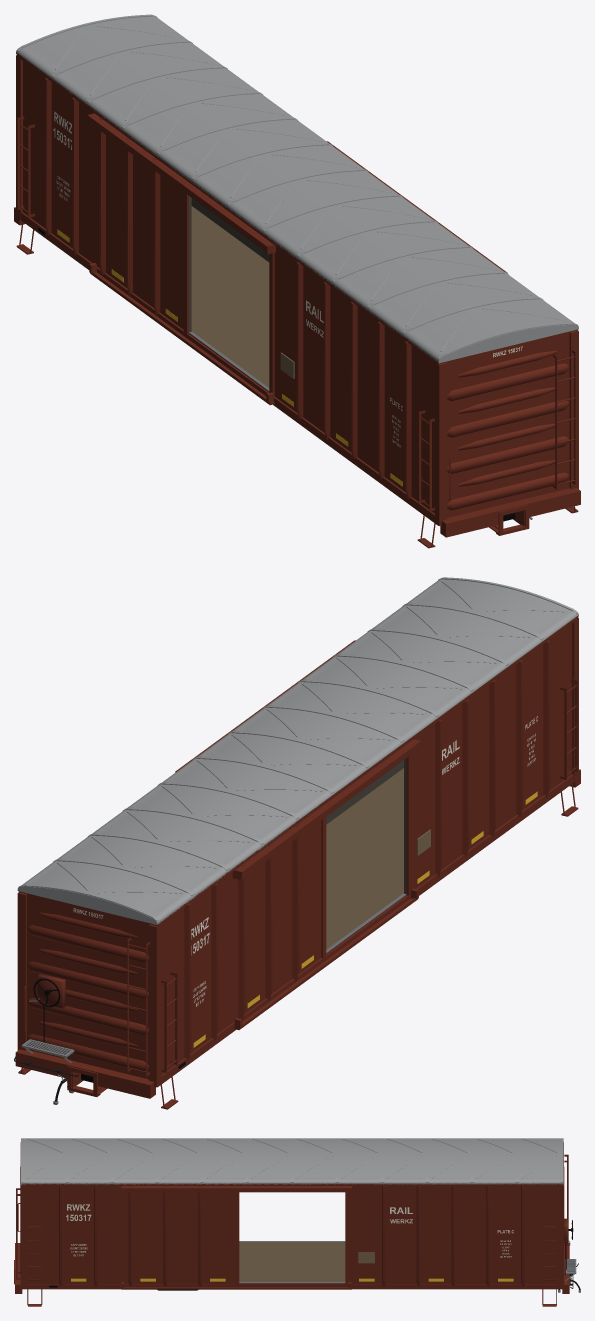
The model's file is body_rwkz.glb.
The picture shows the model from 3 angles, top to bottom: view 1: azimuth 30°, elevation 25°; view 2: azimuth 150°, elevation 25°; view 3: azimuth 270°, elevation 25°; orthographic projection. The views are drawn at different scales.
Visible parts, largest first — view 1: Body, Roof, Floor, Frame, Grab, Interior, Lettering; view 2: Body, Roof, Floor, Frame, Grab, Interior, Lettering; view 3: Body, Roof, Floor, Grab, Lettering, Frame, Reflector, Steel.
Part boxes in pixels (x1,y1,x2,y2): Body: [16, 53, 578, 525]; Roof: [16, 14, 578, 363]; Floor: [191, 206, 269, 387]; Frame: [14, 207, 580, 537]; Grab: [16, 116, 578, 548]; Interior: [189, 196, 573, 332]; Lettering: [53, 111, 522, 447]; Body: [17, 616, 578, 1087]; Roof: [17, 577, 578, 924]; Floor: [326, 768, 403, 949]; Frame: [15, 769, 580, 1098]; Grab: [18, 679, 578, 1109]; Interior: [21, 758, 406, 893]; Lettering: [73, 716, 537, 1006]; Body: [20, 1142, 564, 1289]; Roof: [21, 1138, 563, 1184]; Floor: [239, 1242, 345, 1281]; Grab: [16, 1154, 568, 1306]; Lettering: [66, 1204, 513, 1257]; Frame: [14, 1218, 570, 1293]; Reflector: [71, 1278, 513, 1281]; Steel: [239, 1240, 580, 1292].
Size of the model in its own units: 3.28 by 4.2 by 16.34.
